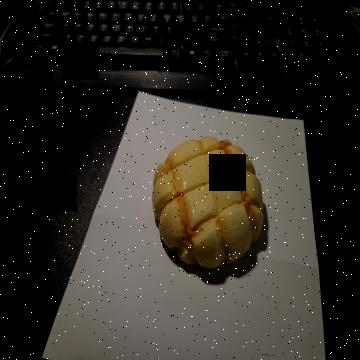melon_bread: (151, 136, 264, 273)
